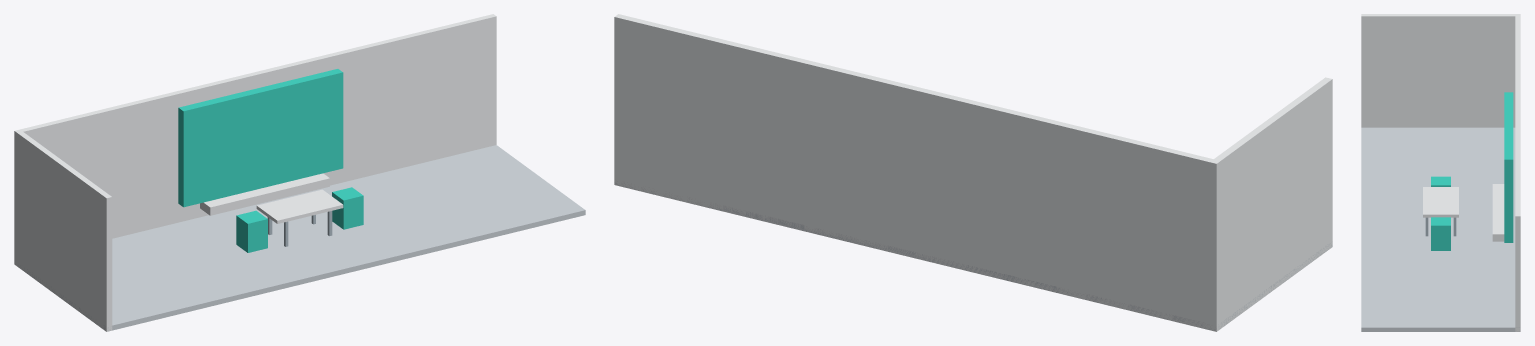
The picture shows the model from 3 angles, left to right: view 1: azimuth 30°, elevation 25°; view 2: azimuth 150°, elevation 25°; view 3: azimuth 270°, elevation 25°; orthographic projection. The views are drawn at different scales.
Parts seen in each view (by area): view 1: Exhibition Booth Concept; view 2: Exhibition Booth Concept; view 3: Exhibition Booth Concept.
Part boxes in pixels (x1,y1,x2,y2): Exhibition Booth Concept: (14, 14, 585, 331); Exhibition Booth Concept: (614, 14, 1332, 331); Exhibition Booth Concept: (1361, 14, 1520, 331).
Size of the model in its own units: 12 by 3.2 by 4.
